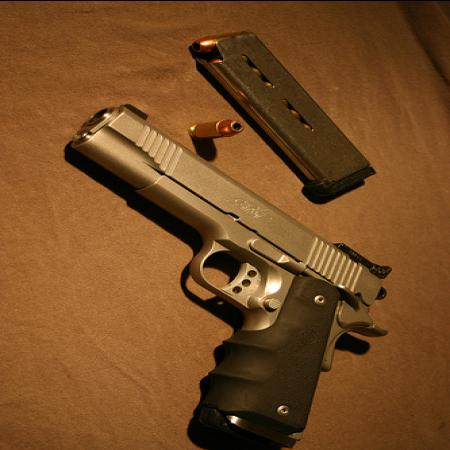Pistol: (68, 100, 398, 446)
